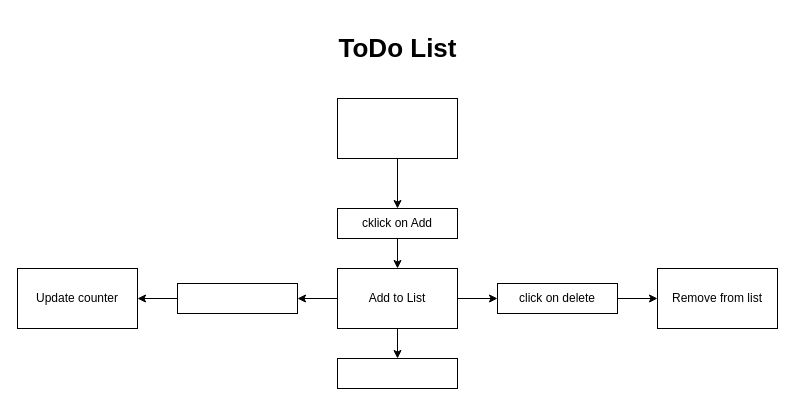
This 795x406 diagram has some shape labels left out. The shapes that lost their labels are listed below. From the top down, each one's centre as x and y in pixels, then its label:
point 397,128: Input
point 237,298: Draw in DOM
point 397,373: click: check ToDo
